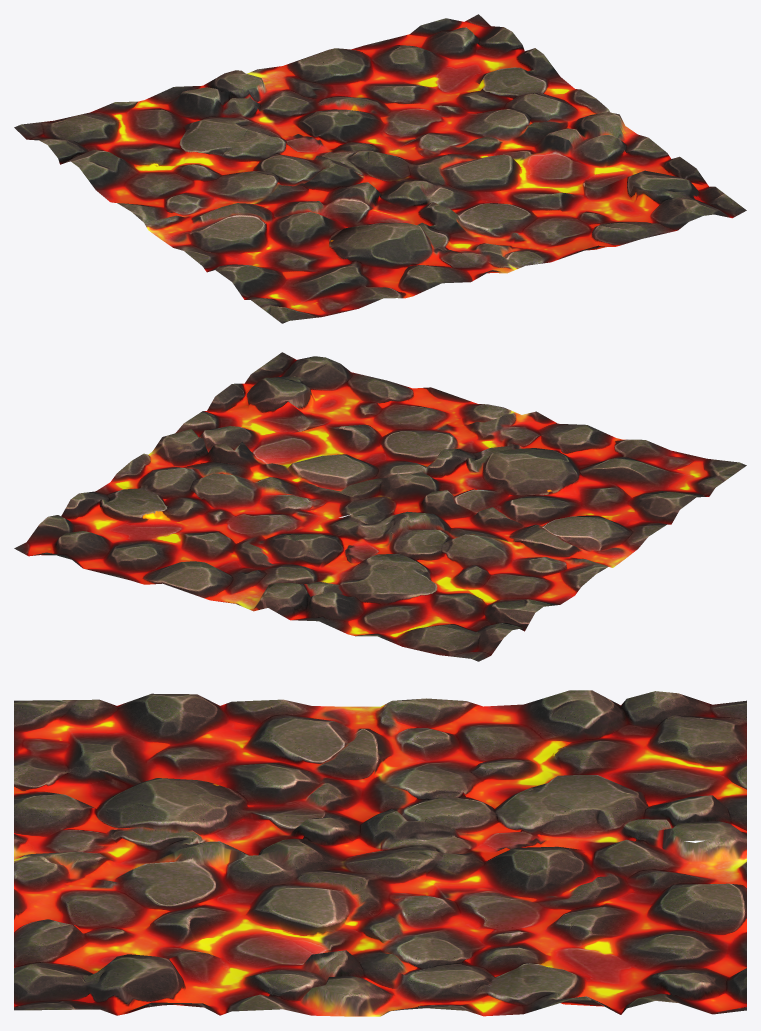
File: stone_lava_plane.FBX
3 views of the same model, one above another, from view 1: azimuth 30°, elevation 25°; view 2: azimuth 150°, elevation 25°; view 3: azimuth 270°, elevation 25° (orthographic). The views are drawn at different scales.
Parts seen in each view (by area): view 1: stone; view 2: stone; view 3: stone.
Part boxes in pixels (left/top/right/bottom): stone: left=14, top=14, right=746, bottom=323; stone: left=14, top=352, right=746, bottom=661; stone: left=14, top=690, right=746, bottom=1016.
Bounding box in the file's own units: 6 × 6 × 0.1482.
